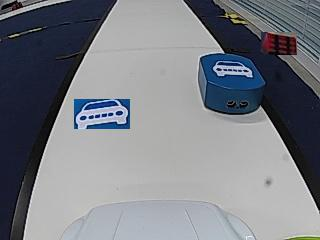safety: (212, 60, 254, 78)
